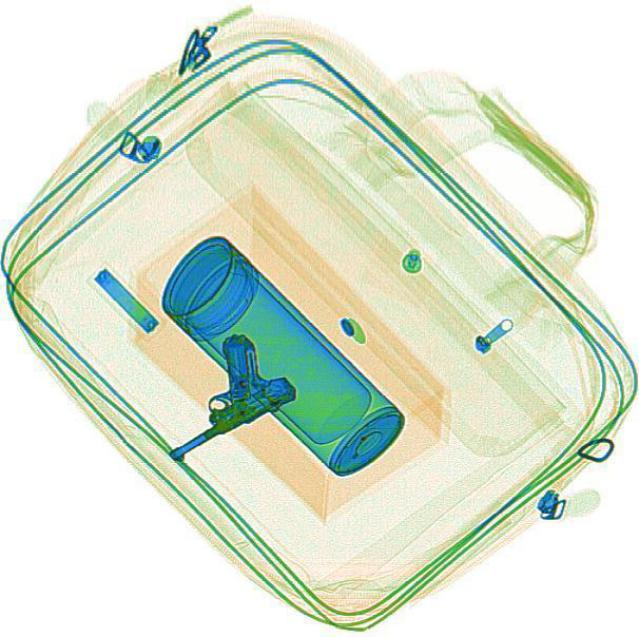Gun: (125, 321, 299, 466)
